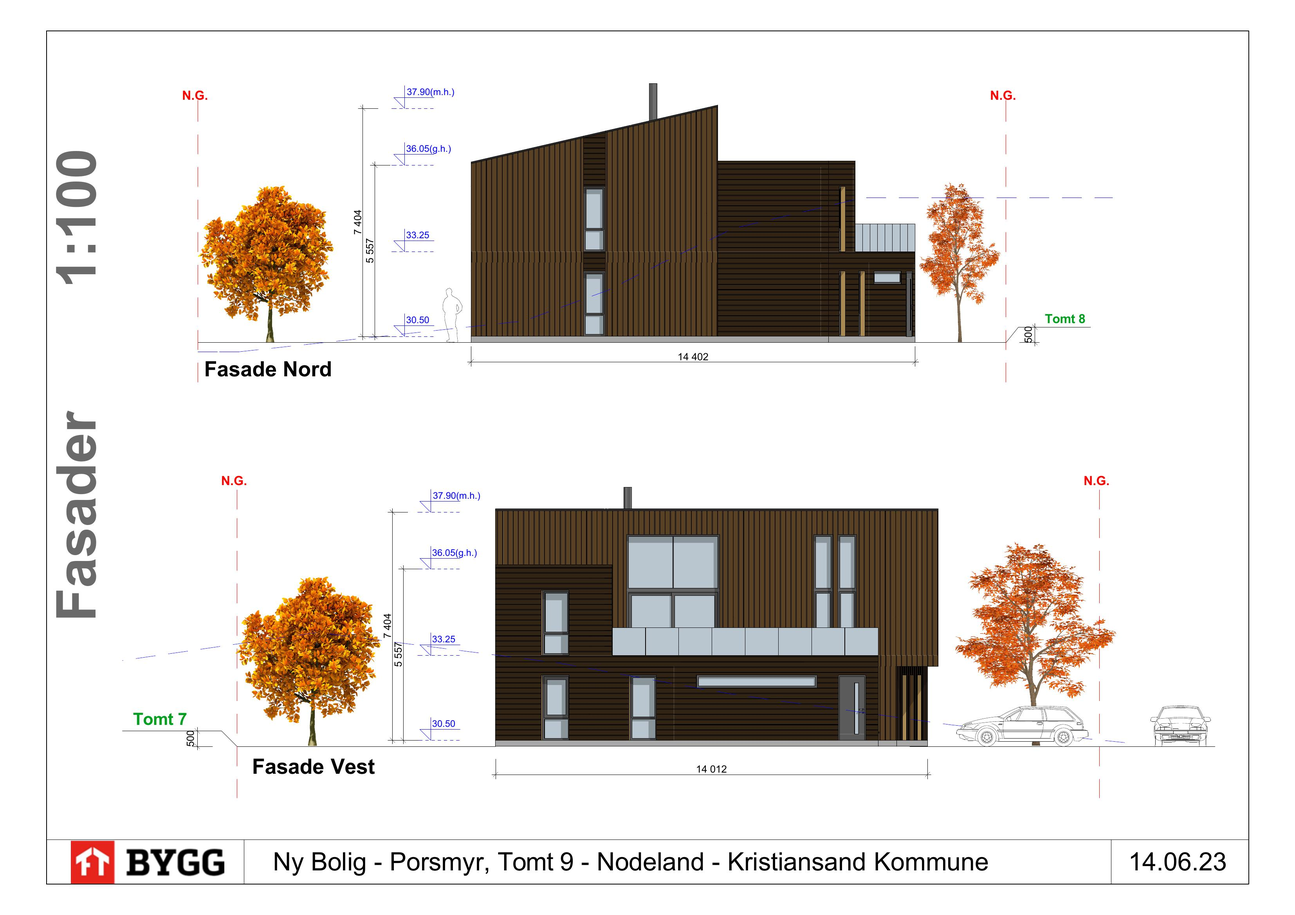fasade: (478, 485, 937, 752), (456, 84, 920, 342)
tekst: (50, 136, 112, 626), (250, 756, 377, 780), (203, 358, 335, 380)
